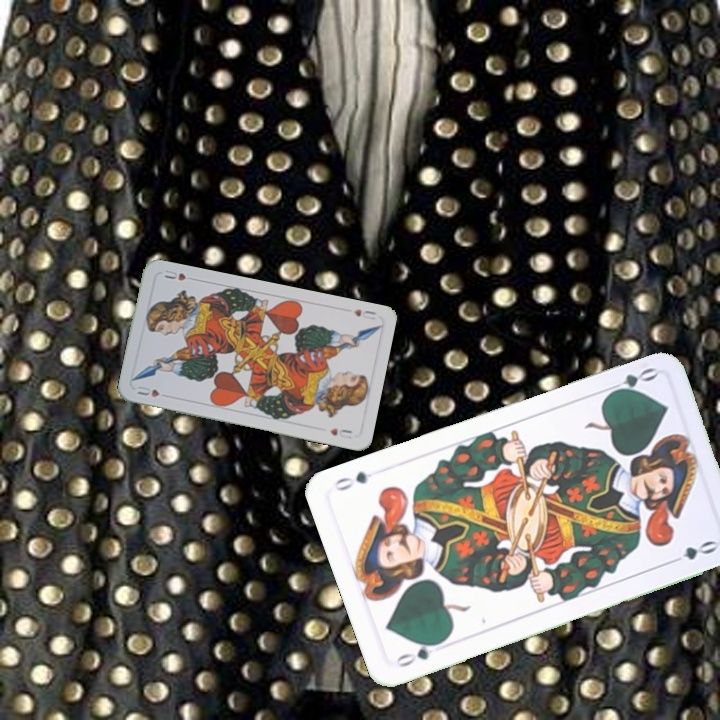GO: (601, 363, 659, 399), (391, 636, 446, 670)
HU: (133, 381, 162, 400), (349, 305, 378, 322)
